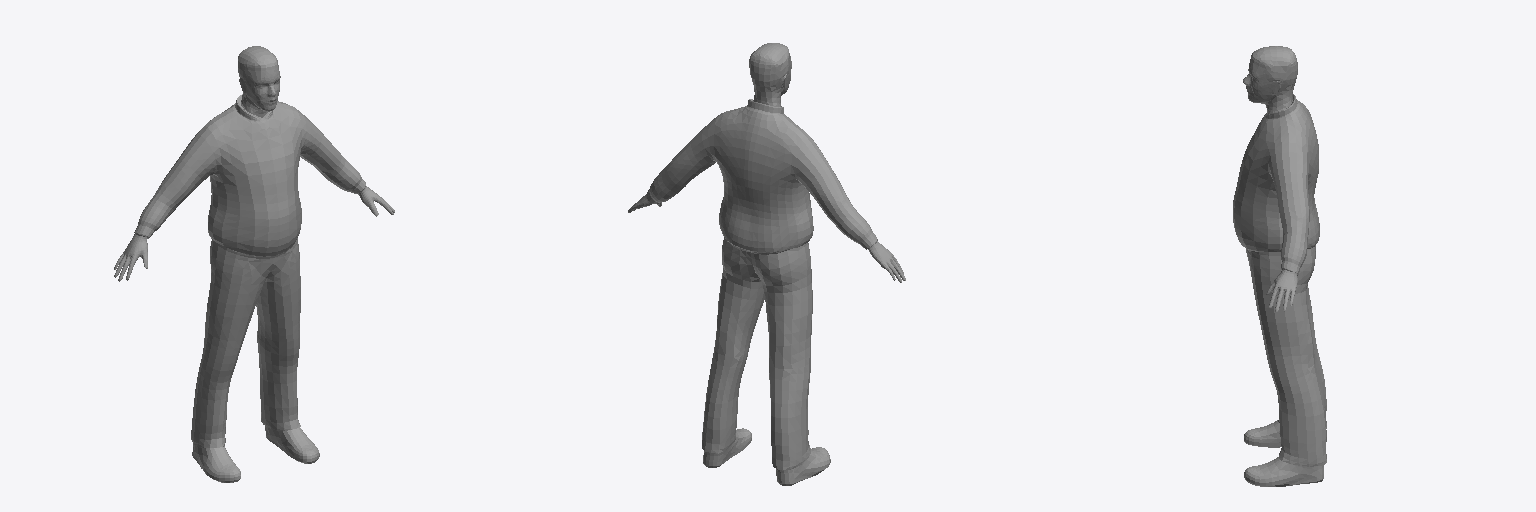
Rendered from Sporty_Man.obj.
3 renders of one model, left to right at view 1: azimuth 30°, elevation 25°; view 2: azimuth 150°, elevation 25°; view 3: azimuth 270°, elevation 25°, orthographic.
Visible parts, largest first — view 1: SportyMan; view 2: SportyMan; view 3: SportyMan.
Part boxes in pixels (left/top/right/bottom): SportyMan: left=114, top=46, right=394, bottom=482; SportyMan: left=628, top=43, right=905, bottom=485; SportyMan: left=1233, top=46, right=1326, bottom=486.
Bounding box in the file's own units: 2.55 × 3.67 × 0.7561.